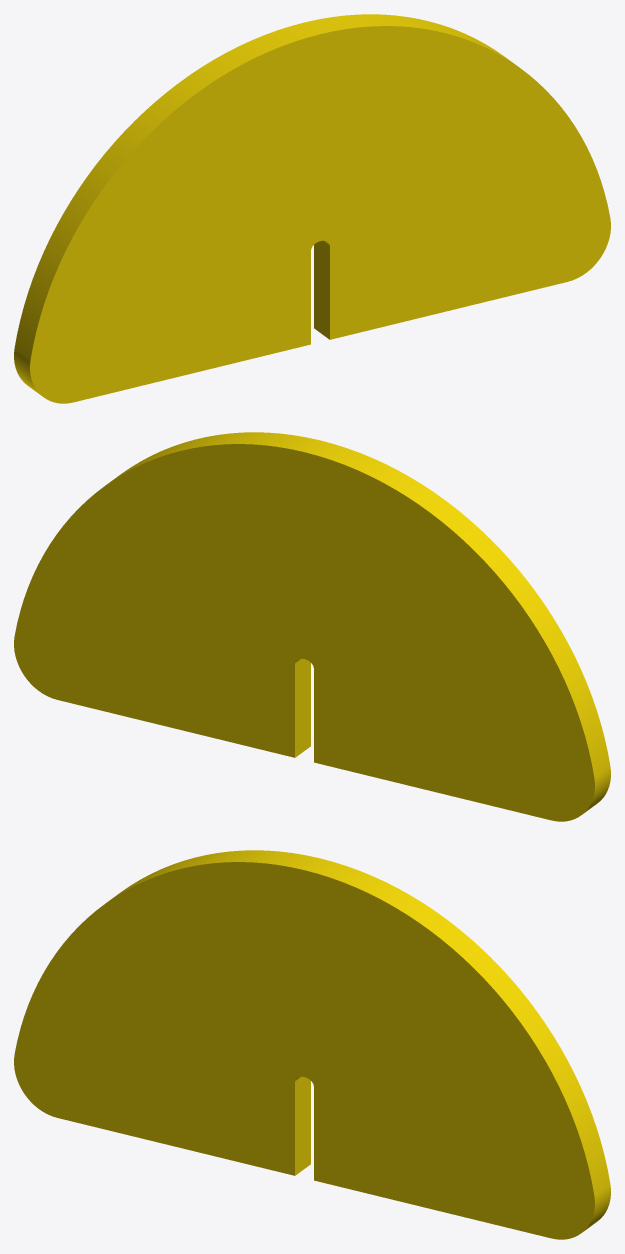
The picture shows the model from 3 angles, top to bottom: view 1: azimuth 30°, elevation 25°; view 2: azimuth 150°, elevation 25°; view 3: azimuth 330°, elevation 25°; orthographic projection.
Parts seen in each view (by area): view 1: 02; view 2: 02; view 3: 02.
Part boxes in pixels (x1,y1,x2,y2): 02: (14, 14, 610, 403); 02: (14, 432, 610, 821); 02: (14, 850, 610, 1239).
Bounding box in the file's own units: 86.84 × 44 × 4.15.
